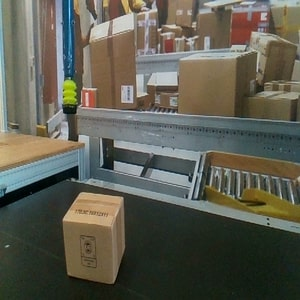box: (61, 191, 126, 285)
